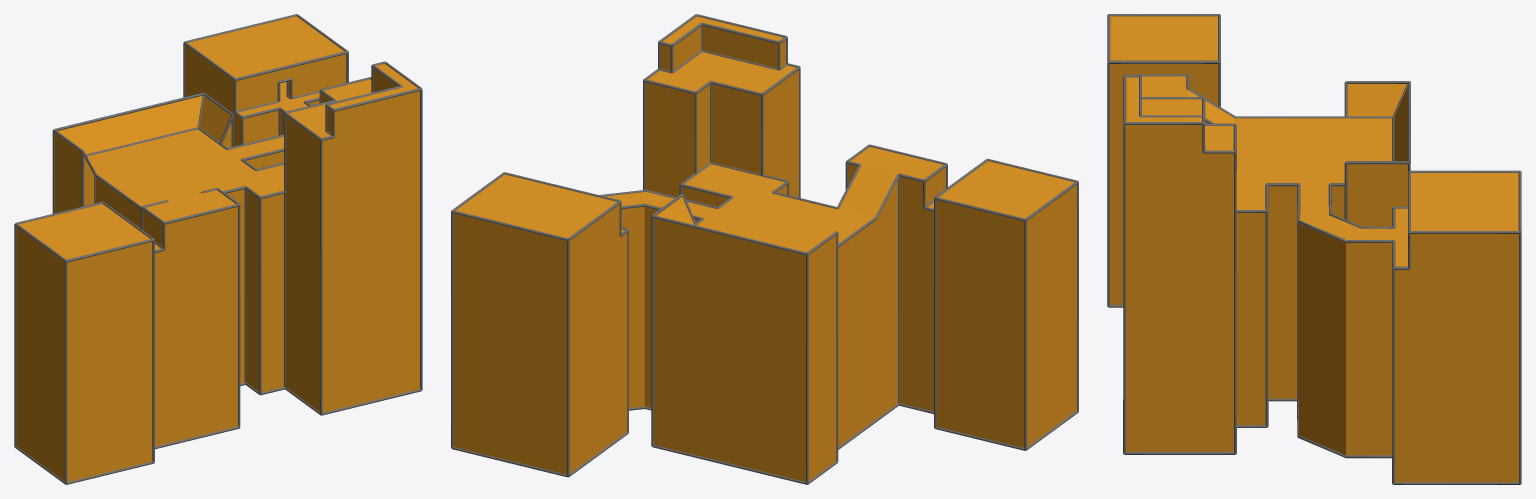
The model's file is dev_terrain.glb.
3 renders of one model, left to right at view 1: azimuth 30°, elevation 25°; view 2: azimuth 150°, elevation 25°; view 3: azimuth 270°, elevation 25°, orthographic. The views are drawn at different scales.
Parts seen in each view (by area): view 1: dev_terrain; view 2: dev_terrain; view 3: dev_terrain.
Part boxes in pixels (x1,y1,x2,y2): dev_terrain: (14, 14, 422, 484); dev_terrain: (451, 14, 1078, 484); dev_terrain: (1107, 14, 1521, 484).
Bounding box in the file's own units: 33.7 × 23.17 × 26.2.
